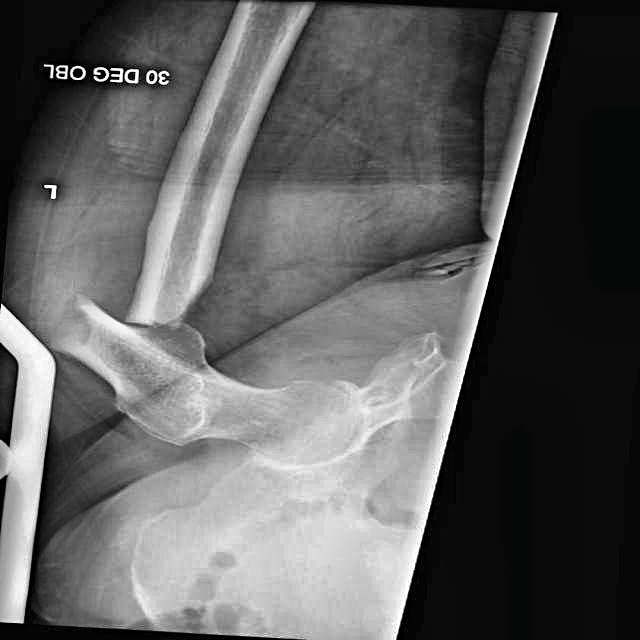Transverse: (41, 258, 219, 381)
